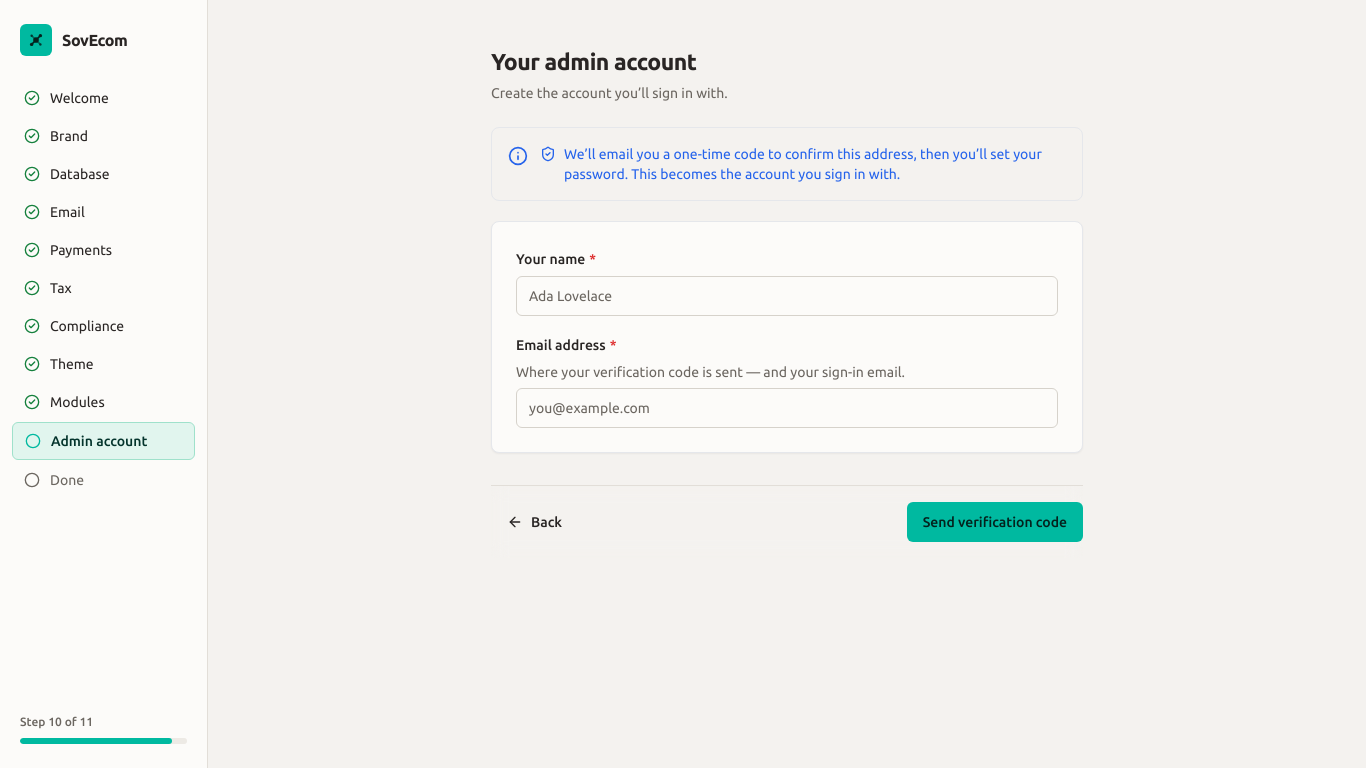
Scenario: AdminAccountStep — request the code › shows a "configure SMTP first" message with a Back affordance on a 422
Expected: the heading "Your admin account" is shown, x1=491 y1=49 x2=697 y2=74
Type "Ada" into the field labelled "Your name*".
click(787, 296); type("Ada")  # box x1=516 y1=276 x2=1058 y2=316
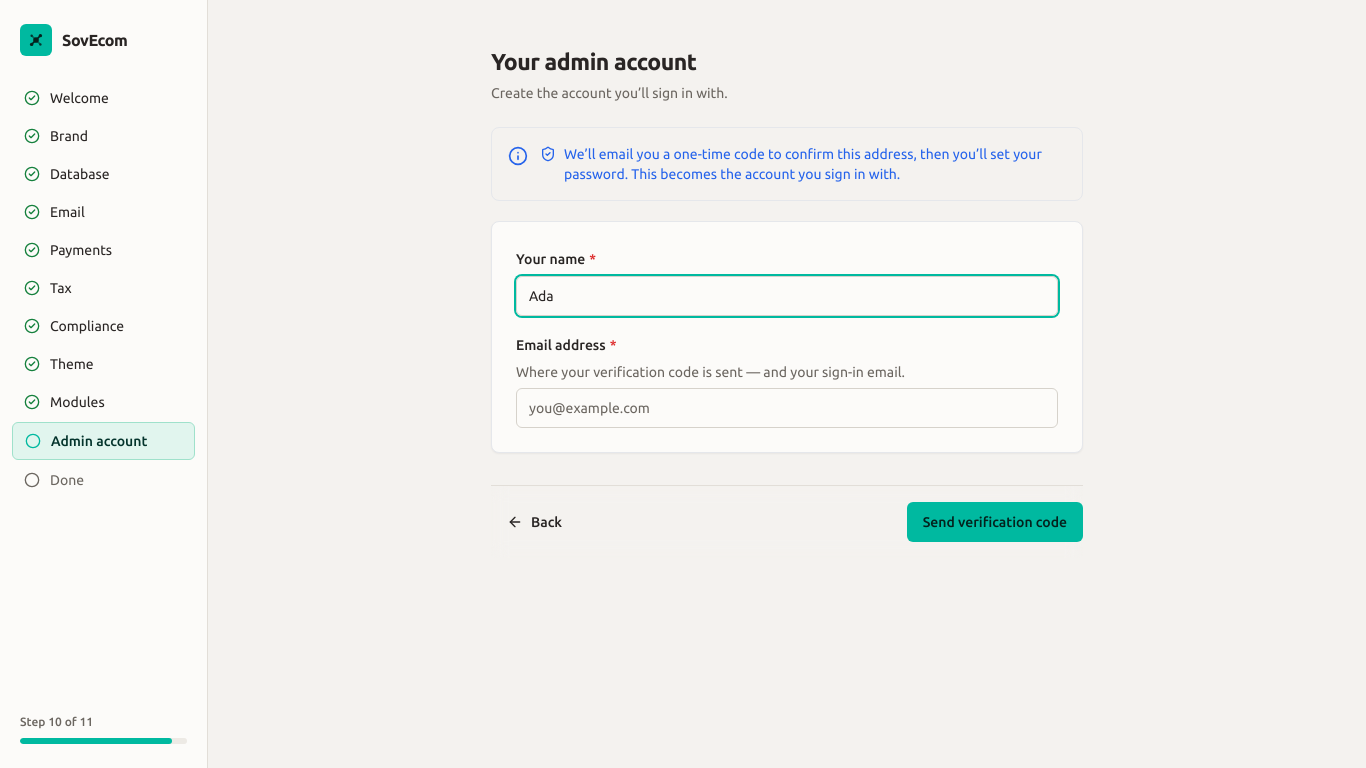
Type "ada@example.com" into the field labelled "Email address*".
click(787, 408); type("ada@example.com")  # box x1=516 y1=388 x2=1058 y2=428
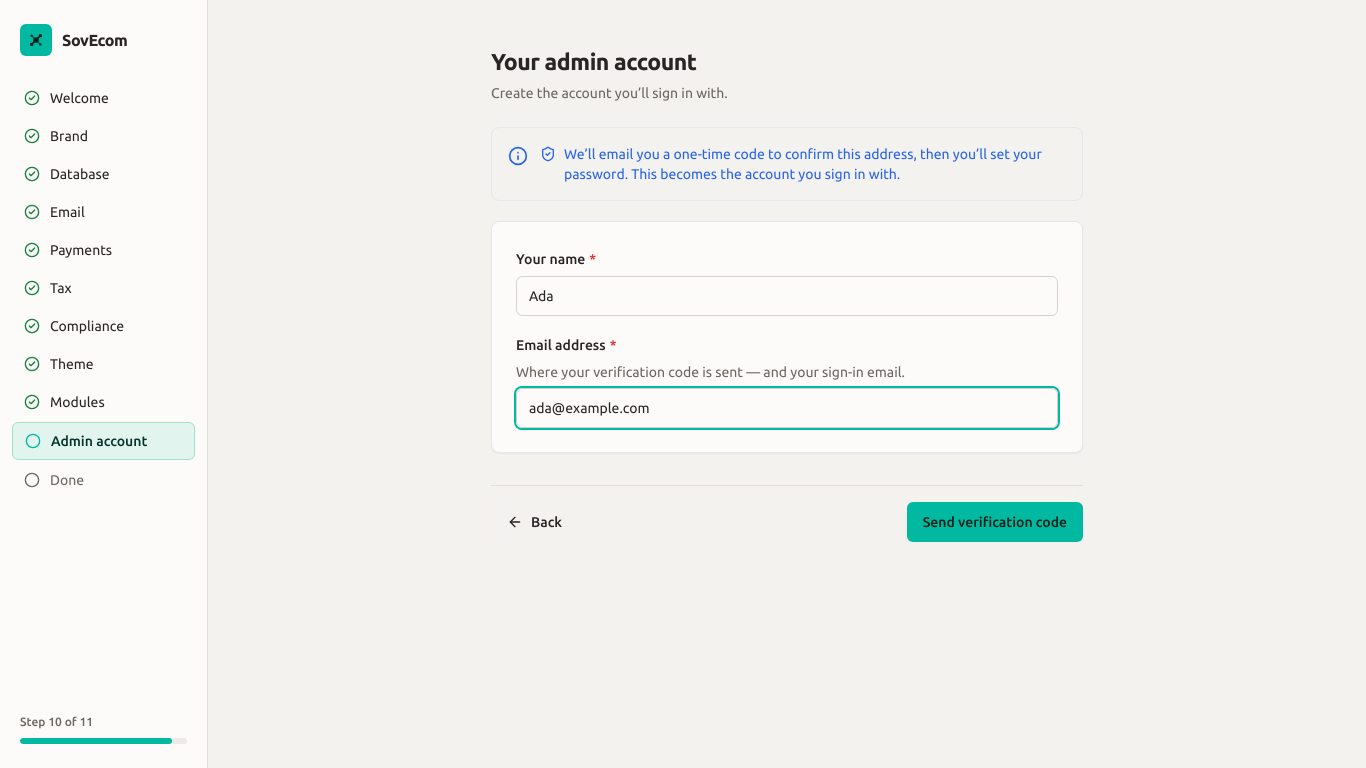
Click the button "Send verification code".
click(995, 522)  # box x1=907 y1=502 x2=1083 y2=542
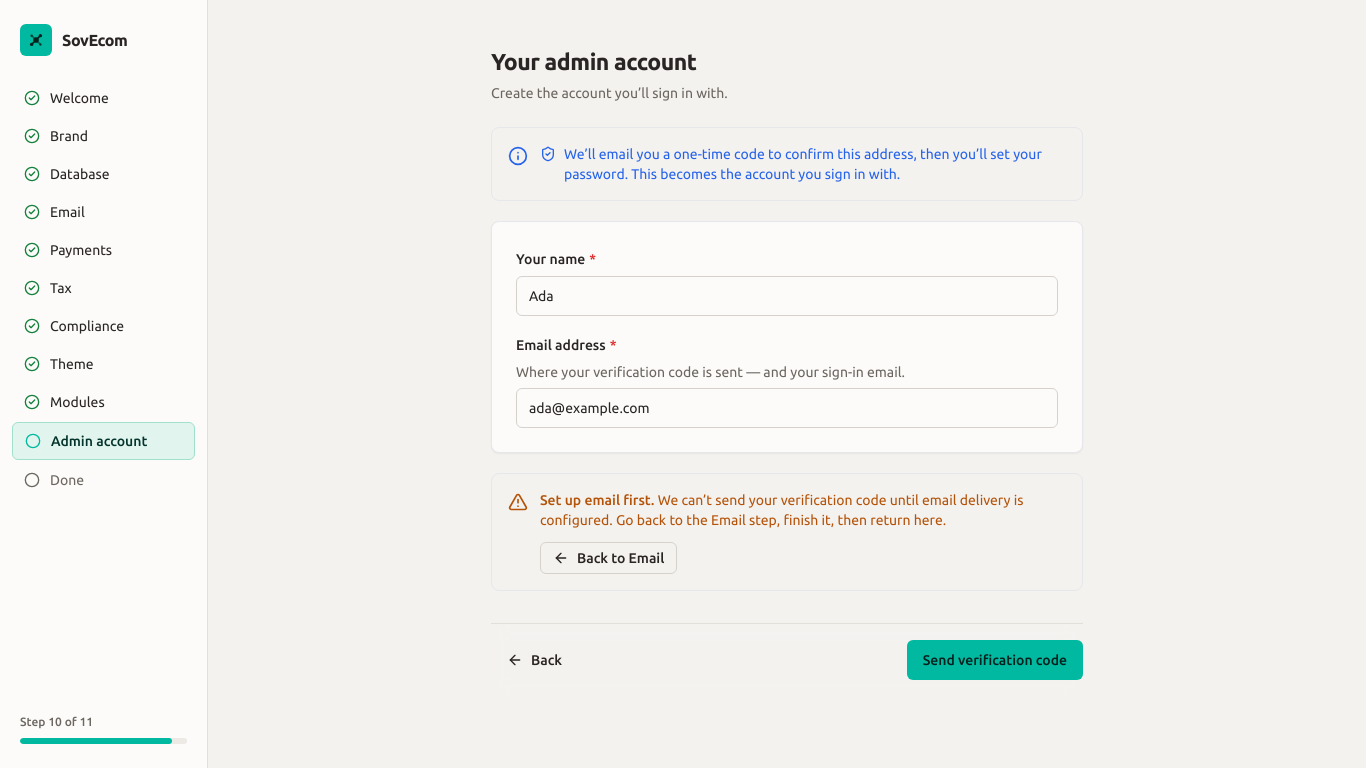
Expected: the text "Set up email first." is shown, x1=540 y1=492 x2=655 y2=508
Expected: the button "Back to Email" is shown, x1=540 y1=542 x2=677 y2=574
